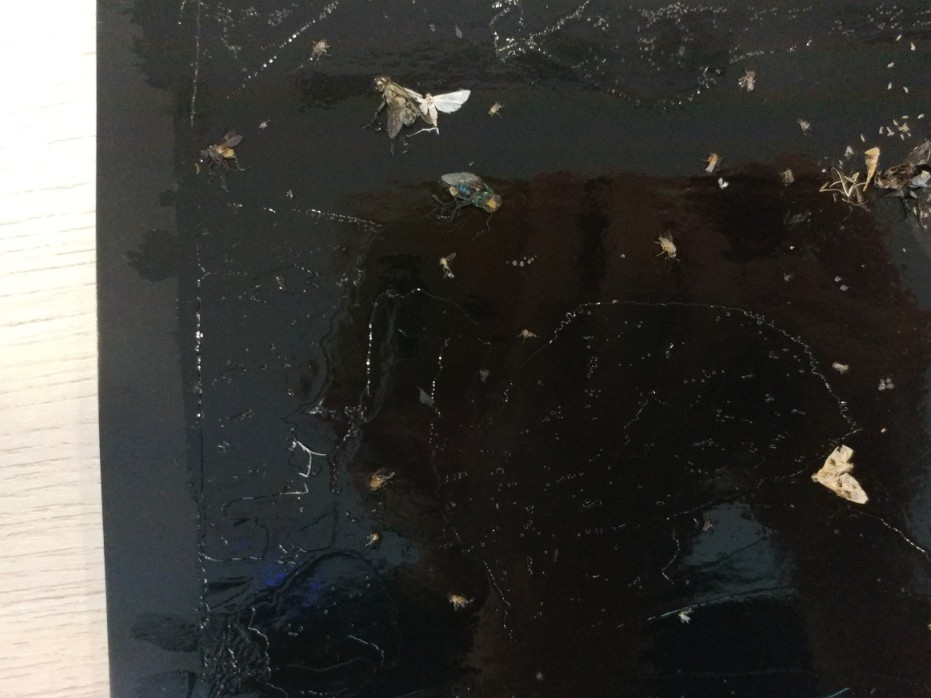fly: (358, 63, 461, 149), (430, 166, 511, 223)
moth: (808, 438, 887, 515)
